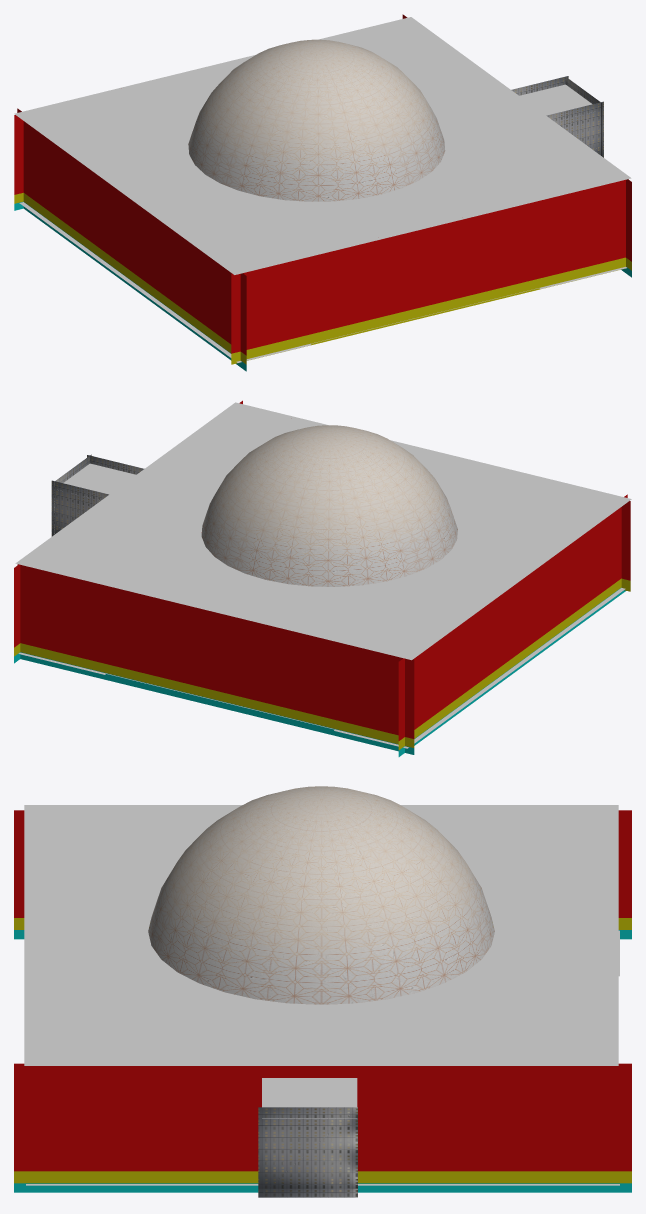
Rendered from suelo_casino_reducido_V3.fbx.
3 renders of one model, top to bottom at view 1: azimuth 30°, elevation 25°; view 2: azimuth 150°, elevation 25°; view 3: azimuth 270°, elevation 25°, orthographic. The views are drawn at different scales.
Parts seen in each view (by area): view 1: Techo_marmol.007, pared madera, Sphere.001, pared madera.001, Plane.003, Plane.001, pared madera.015, parque.006, pared madera.004, parque.004; view 2: Techo_marmol.007, pared madera.015, Sphere.001, pared madera.001, Plane.007, Plane.001, pared madera, pared madera.004, parque.006, parque.004; view 3: Techo_marmol.007, pared madera.004, Sphere.001, Plane.004, pared madera.001, Plane.001.
Boxes of the visible parts, bbox=[...] form: Techo_marmol.007: bbox=[14, 17, 631, 274]; pared madera: bbox=[231, 179, 625, 364]; Sphere.001: bbox=[188, 39, 445, 201]; pared madera.001: bbox=[17, 108, 246, 371]; Plane.003: bbox=[546, 101, 603, 157]; Plane.001: bbox=[519, 84, 592, 115]; pared madera.015: bbox=[14, 115, 23, 210]; parque.006: bbox=[19, 202, 311, 362]; pared madera.004: bbox=[402, 14, 631, 277]; parque.004: bbox=[70, 239, 188, 324]; Techo_marmol.007: bbox=[15, 402, 631, 660]; pared madera.015: bbox=[17, 564, 414, 754]; Sphere.001: bbox=[201, 425, 457, 586]; pared madera.001: bbox=[398, 494, 627, 756]; Plane.007: bbox=[51, 480, 108, 536]; Plane.001: bbox=[63, 463, 135, 494]; pared madera: bbox=[621, 501, 630, 591]; pared madera.004: bbox=[14, 400, 242, 663]; parque.006: bbox=[334, 588, 625, 748]; parque.004: bbox=[456, 625, 574, 709]; Techo_marmol.007: bbox=[24, 805, 618, 1065]; pared madera.004: bbox=[14, 1063, 631, 1192]; Sphere.001: bbox=[148, 786, 494, 1004]; Plane.004: bbox=[258, 1107, 357, 1197]; pared madera.001: bbox=[14, 810, 631, 939]; Plane.001: bbox=[262, 1078, 357, 1118].
Size of the model in its own units: 6005 by 2513 by 5200.
